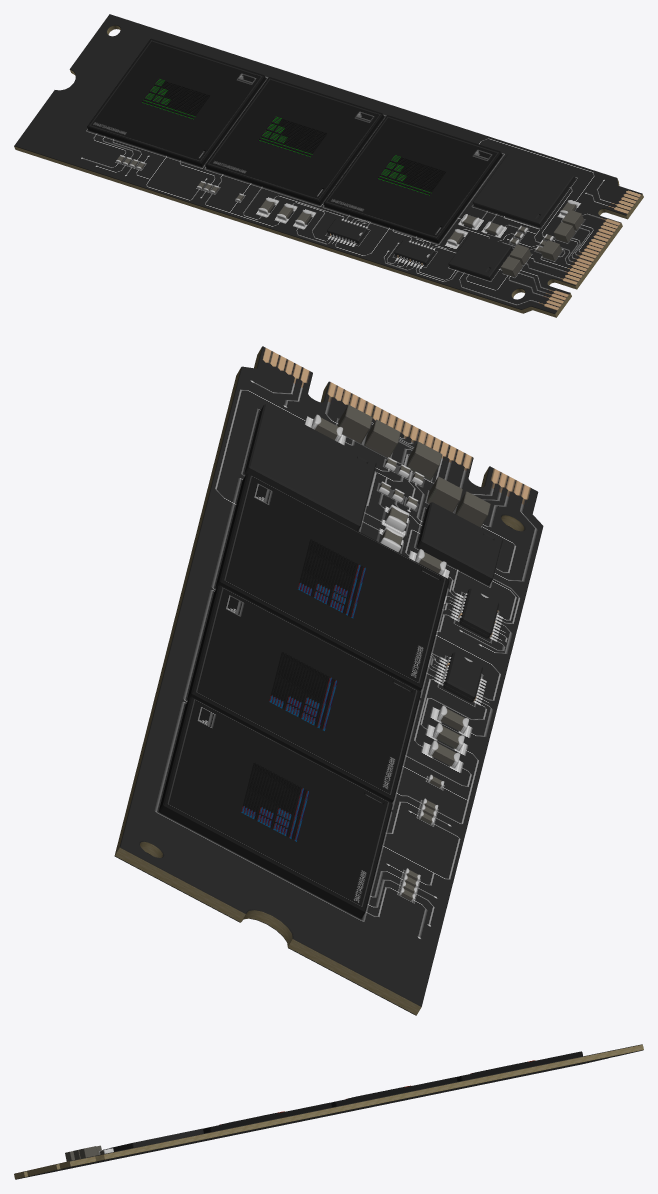
File: 内存条.FBX
The picture shows the model from 3 angles, top to bottom: view 1: azimuth 30°, elevation 25°; view 2: azimuth 150°, elevation 25°; view 3: azimuth 270°, elevation 25°; orthographic projection. The views are drawn at different scales.
Parts seen in each view (by area): view 1: Obj3d66-4645410-1-754; view 2: Obj3d66-4645410-1-754; view 3: Obj3d66-4645410-1-754.
Boxes of the visible parts, box(x1,y1,x2,y2) form: Obj3d66-4645410-1-754: box(14, 14, 643, 317); Obj3d66-4645410-1-754: box(114, 346, 543, 1015); Obj3d66-4645410-1-754: box(14, 1044, 643, 1179).
Size of the model in its own units: 1966 by 475 by 3175.
1 material, 1 textured.
